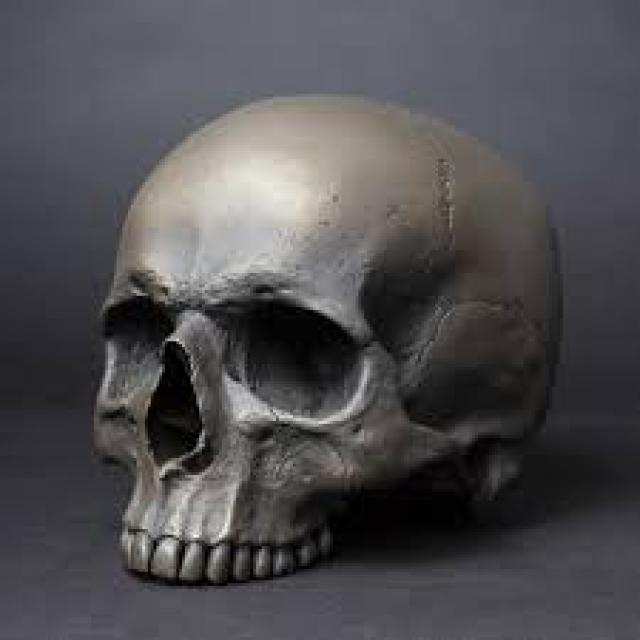skull: (86, 81, 564, 596)
